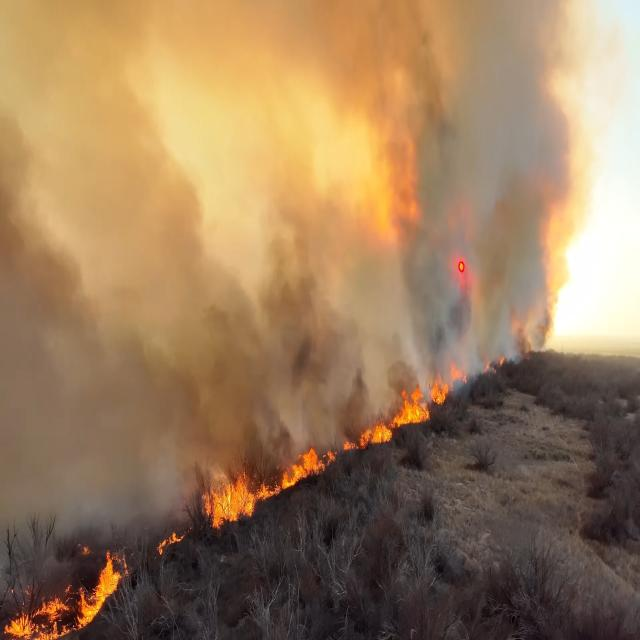fire: (4, 563, 124, 640), (360, 382, 432, 446), (206, 464, 254, 533)
smoke: (0, 1, 549, 251), (0, 0, 172, 508), (169, 174, 352, 454)
